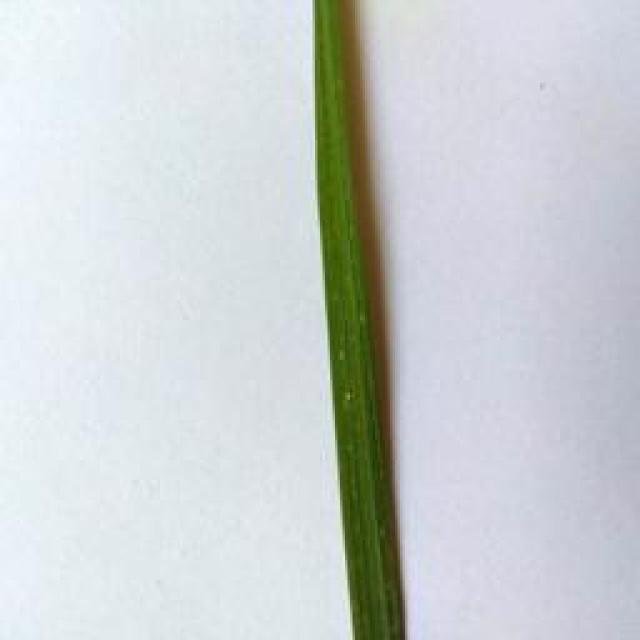Healthy-Plant: (304, 6, 414, 640)
